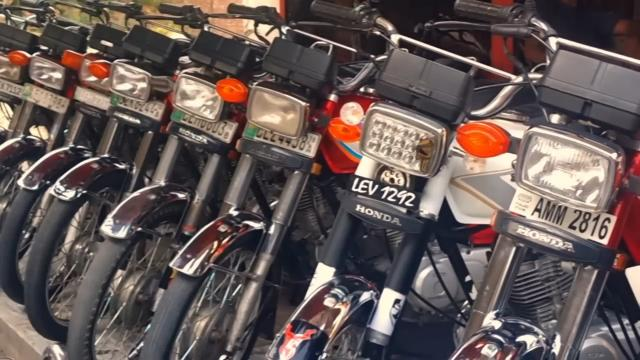plate: (508, 184, 617, 247), (345, 174, 422, 211)
